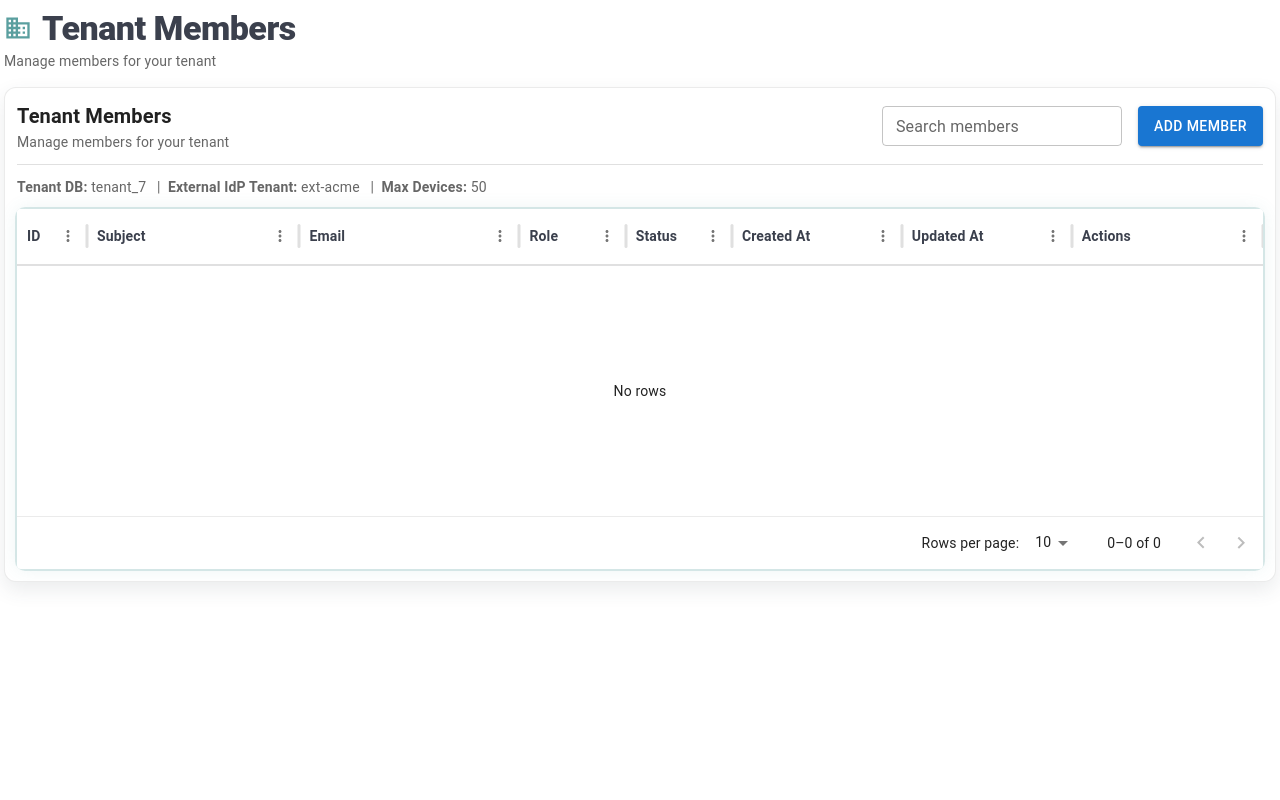
it: TenantsAdministrator — invite a new member › surfaces a clear message when the tenant no longer exists
The width and height of the screenshot is (1280, 800).
Click the button "Add Member".
click(1200, 126)  # box [1138,106,1263,146]
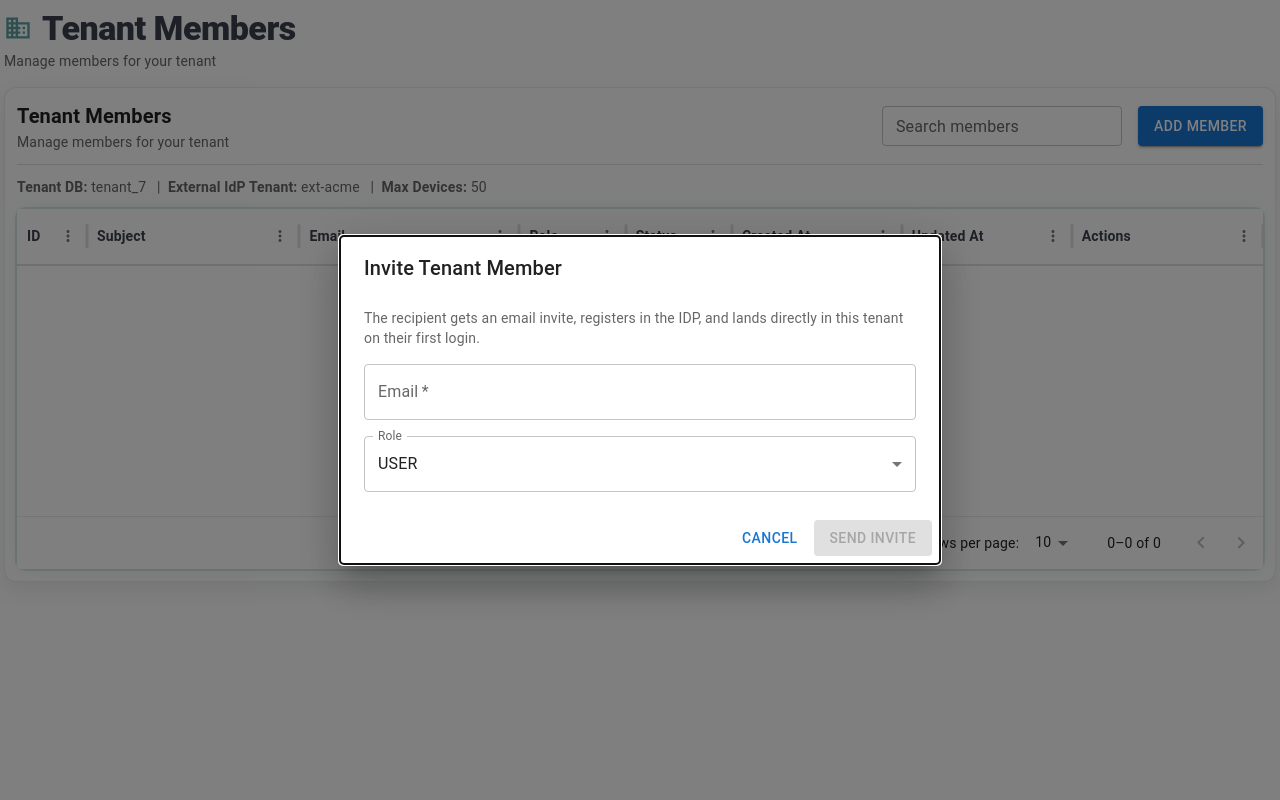
Type "new.person@acme.com" into the field labelled "Email *".
click(640, 392); type("new.person@acme.com")  # box [364,364,916,420]
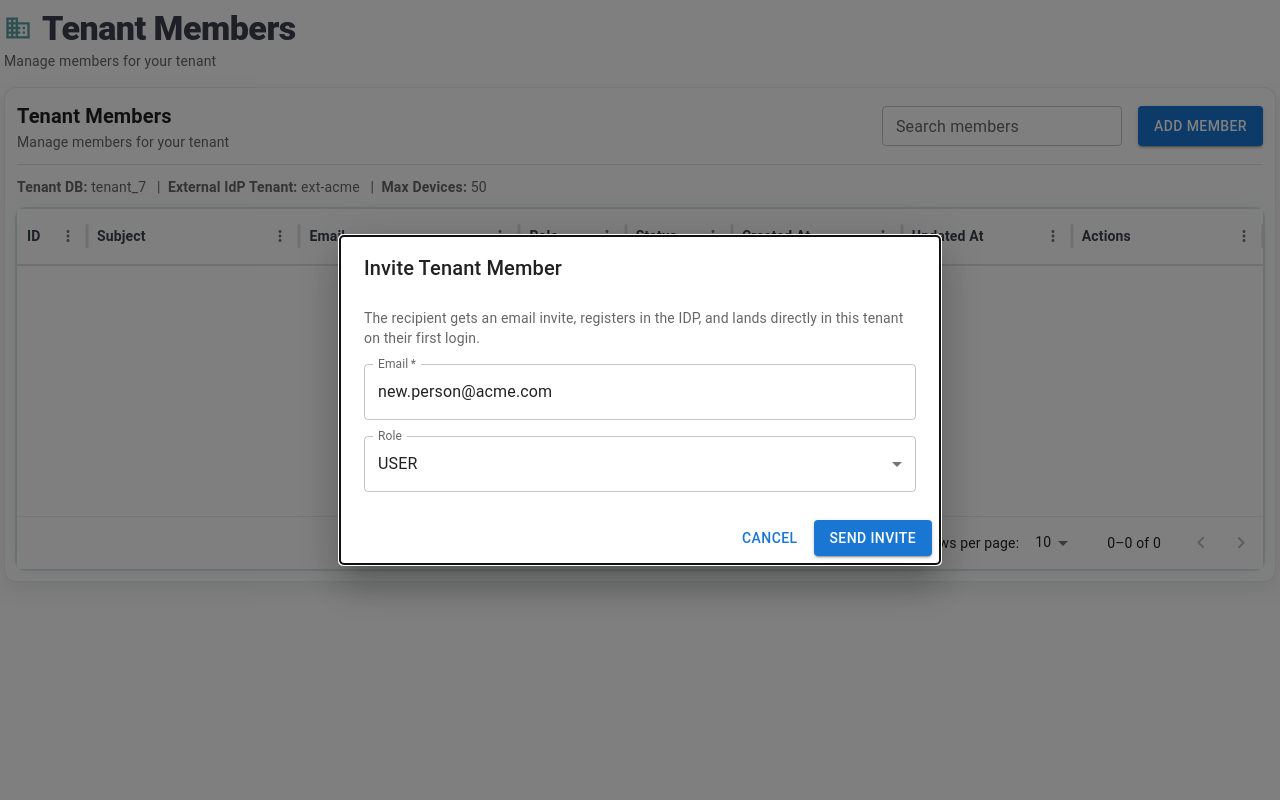
Click the button "Send Invite".
click(873, 538)  # box [814,520,932,556]
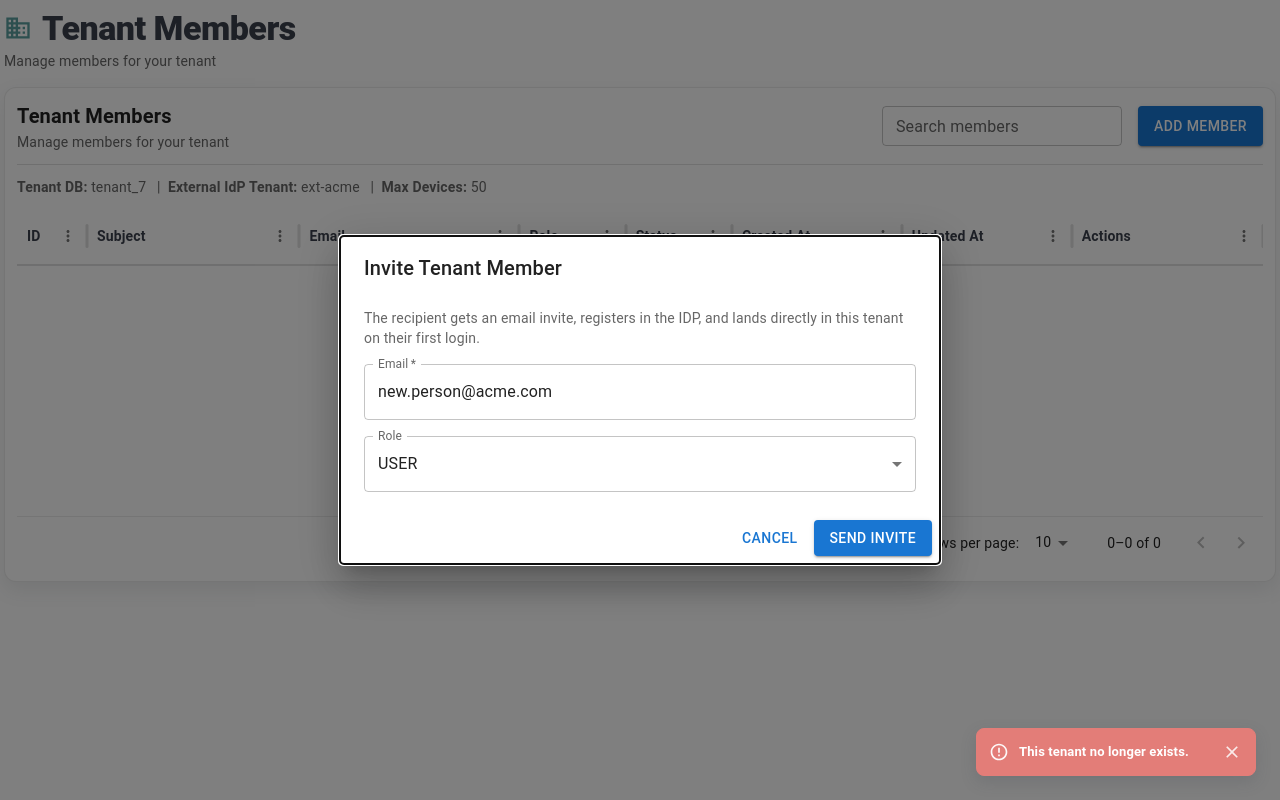
Expected: the text "This tenant no longer exists." is shown, [1019,743,1207,761]
